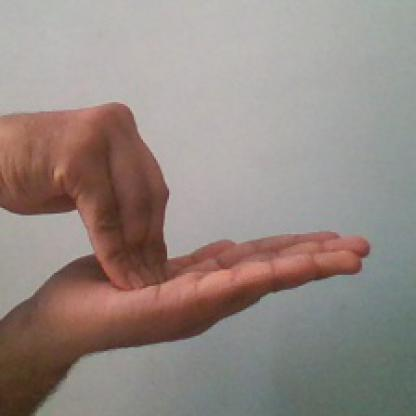Z: (15, 105, 376, 348)
